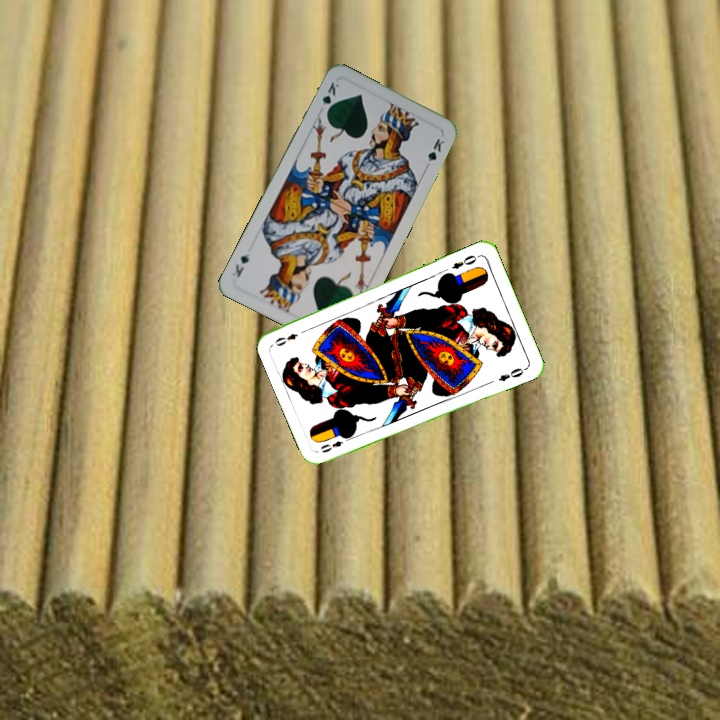EO: (316, 433, 354, 455), (448, 251, 482, 272)
GK: (316, 78, 342, 117)
